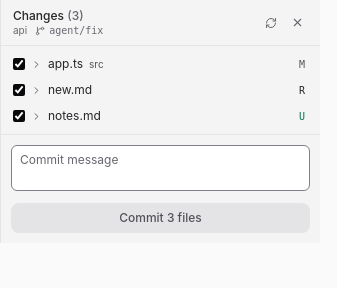
Scenario: ChangesPanel › commits only the chosen files, with a rename's old path, and reloads
Click the checkbox named "Include notes.md in the commit" at (19, 116), box [13,110,25,122]
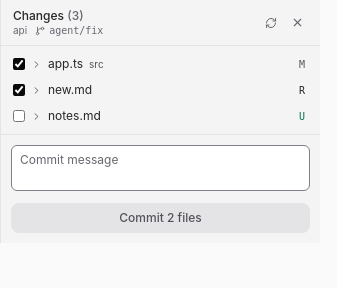
Expected: the button "Commit 2 files" is disabled, [11,203,310,233]
Now the button "Commit 2 files" is shown, box [11,203,310,233]
Type " Fix login " into the text box labelled "Commit message" at (160, 168), box [11,145,310,191]
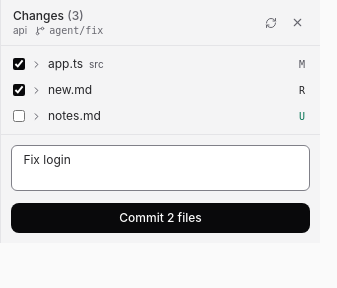
Click the button "Commit 2 files" at (160, 218), box [11,203,310,233]
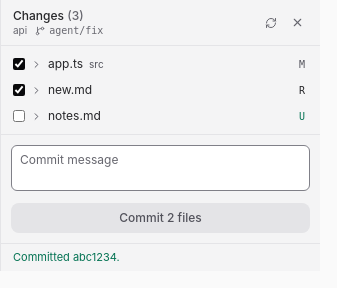
Now the message shows "abc1234", box [73,250,116,264]
